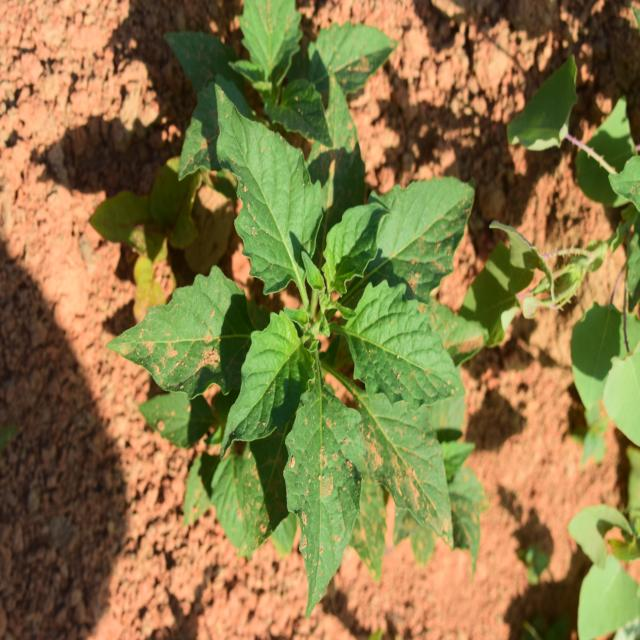Black_nightshade: (153, 126, 480, 572)
